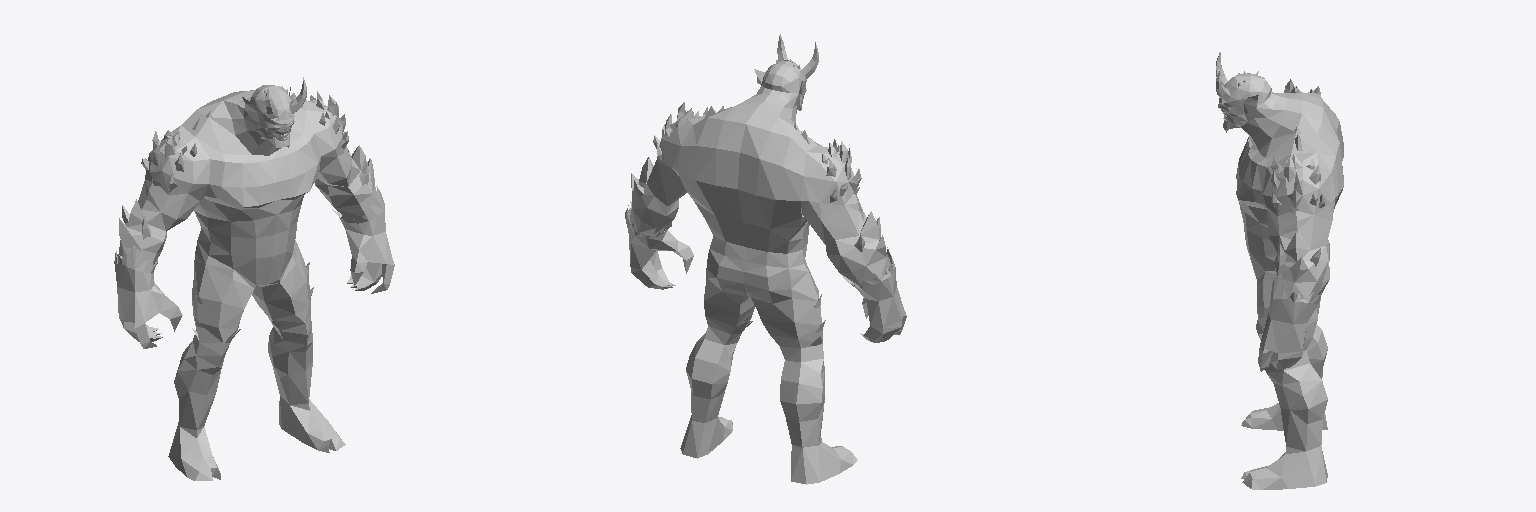
Rendered from Goblin.obj.
3 views of the same model, side by side, from view 1: azimuth 30°, elevation 25°; view 2: azimuth 150°, elevation 25°; view 3: azimuth 270°, elevation 25° (orthographic).
Parts seen in each view (by area): view 1: Mesh; view 2: Mesh; view 3: Mesh.
Part boxes in pixels (left/top/right/bottom): Mesh: left=114, top=77, right=394, bottom=480; Mesh: left=625, top=34, right=906, bottom=484; Mesh: left=1216, top=52, right=1343, bottom=489.
Size of the model in its own units: 1.7 by 2.4 by 0.7142.